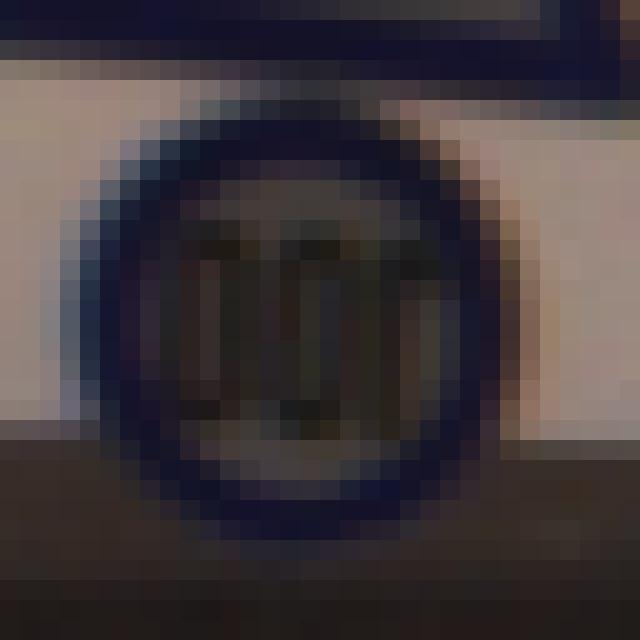SPEED LIMIT 100: (72, 113, 536, 528)
